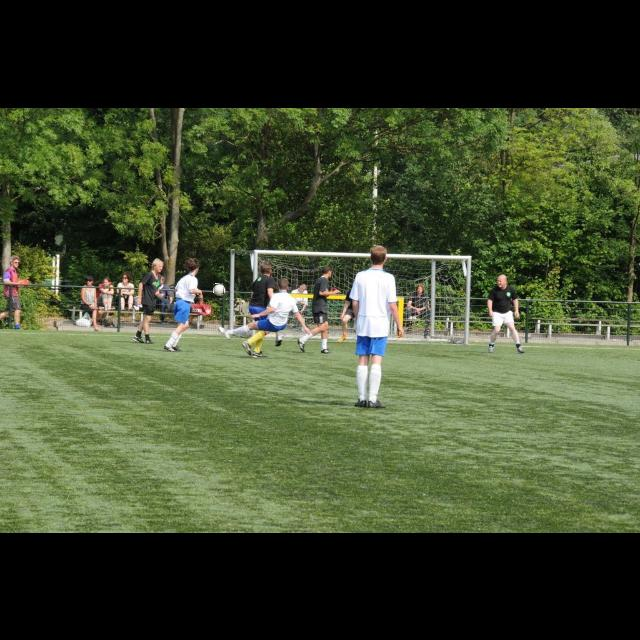Football: (214, 284, 224, 294)
